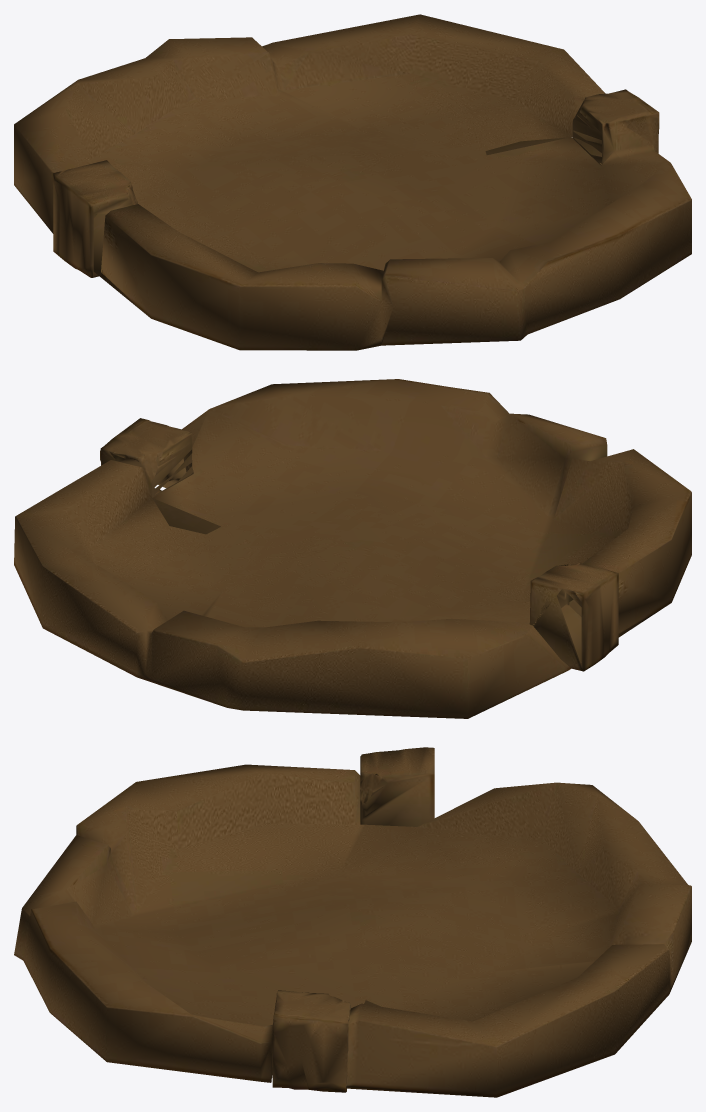
File: 장애물_진흙밭.glb
The picture shows the model from 3 angles, top to bottom: view 1: azimuth 30°, elevation 25°; view 2: azimuth 150°, elevation 25°; view 3: azimuth 270°, elevation 25°; orthographic projection.
Parts seen in each view (by area): view 1: tripo_node_8bf59ef5-6fed-41fc-8d83-cb70b158a368; view 2: tripo_node_8bf59ef5-6fed-41fc-8d83-cb70b158a368; view 3: tripo_node_8bf59ef5-6fed-41fc-8d83-cb70b158a368.
Part boxes in pixels (left/top/right/bottom): tripo_node_8bf59ef5-6fed-41fc-8d83-cb70b158a368: left=14, top=14, right=691, bottom=350; tripo_node_8bf59ef5-6fed-41fc-8d83-cb70b158a368: left=14, top=379, right=691, bottom=718; tripo_node_8bf59ef5-6fed-41fc-8d83-cb70b158a368: left=14, top=747, right=691, bottom=1097.
Bounding box in the file's own units: 0.9355 × 0.1425 × 0.998.
Materials: 1 (1 with a texture image).
